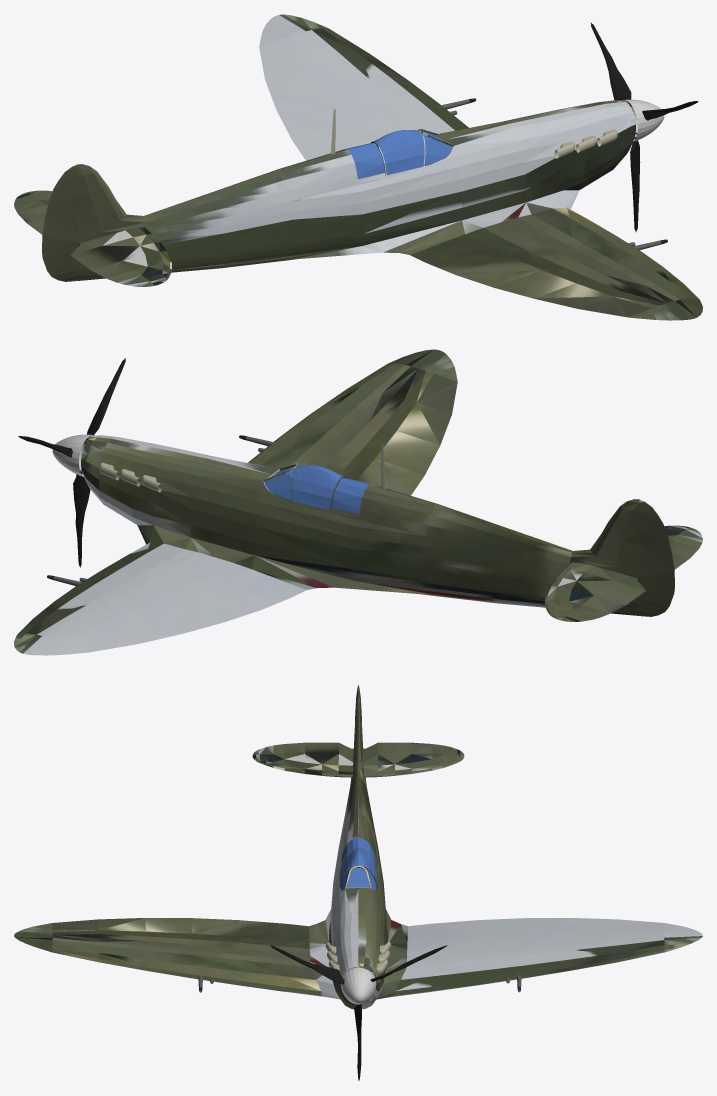
The picture shows the model from 3 angles, top to bottom: view 1: azimuth 30°, elevation 25°; view 2: azimuth 150°, elevation 25°; view 3: azimuth 270°, elevation 25°; orthographic projection. The views are drawn at different scales.
Parts seen in each view (by area): view 1: mesh17_mesh17-geometry, mesh19_mesh19-geometry, mesh16_mesh16-geometry, mesh18_mesh18-geometry, mesh14_mesh14-geometry; view 2: mesh17_mesh17-geometry, mesh19_mesh19-geometry, mesh14_mesh14-geometry, mesh18_mesh18-geometry, mesh15_mesh15-geometry; view 3: mesh17_mesh17-geometry, mesh19_mesh19-geometry, mesh18_mesh18-geometry.
Boxes of the visible parts, x1=… form: mesh17_mesh17-geometry: x1=42, y1=14, x2=702, y2=320; mesh19_mesh19-geometry: x1=14, y1=190, x2=172, y2=286; mesh16_mesh16-geometry: x1=590, y1=22, x2=631, y2=106; mesh18_mesh18-geometry: x1=622, y1=99, x2=664, y2=141; mesh14_mesh14-geometry: x1=630, y1=132, x2=640, y2=232; mesh17_mesh17-geometry: x1=14, y1=349, x2=674, y2=655; mesh19_mesh19-geometry: x1=544, y1=525, x2=702, y2=621; mesh14_mesh14-geometry: x1=73, y1=470, x2=90, y2=567; mesh18_mesh18-geometry: x1=52, y1=434, x2=94, y2=476; mesh15_mesh15-geometry: x1=84, y1=358, x2=125, y2=443; mesh17_mesh17-geometry: x1=14, y1=684, x2=702, y2=1009; mesh19_mesh19-geometry: x1=252, y1=742, x2=464, y2=777; mesh18_mesh18-geometry: x1=340, y1=967, x2=376, y2=1004.
Bounding box in the file's own units: 0.6405 × 0.2017 × 0.741.
